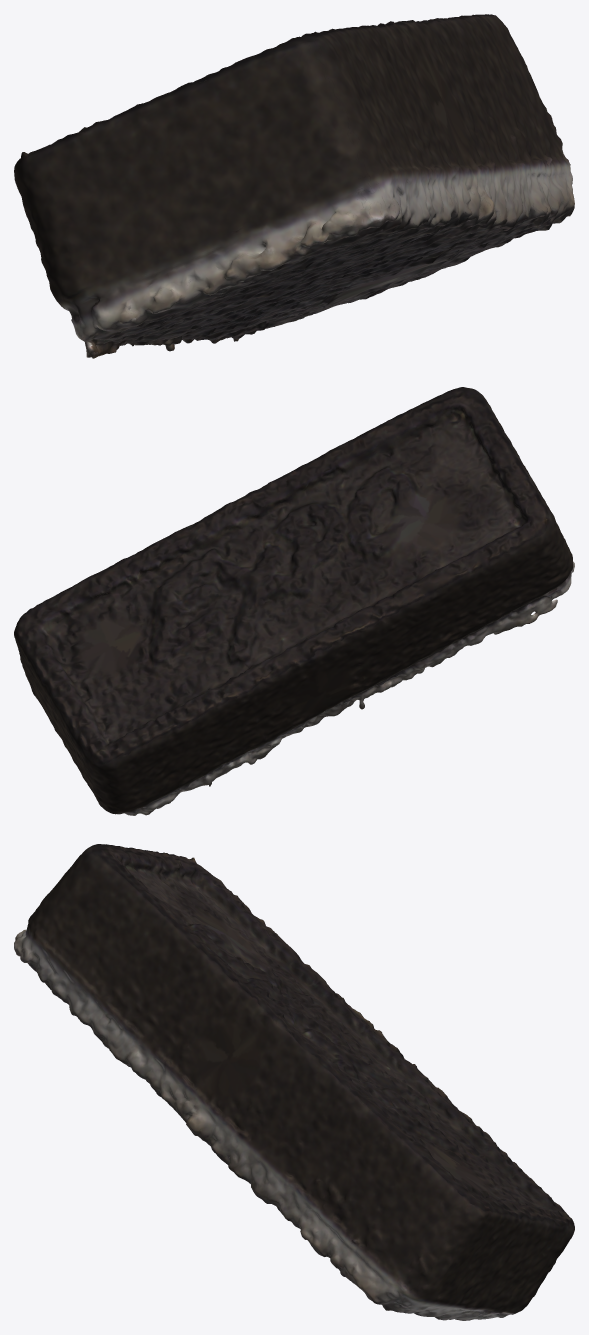
File: Yuta_Eraser_Mesh.obj
3 views of the same model, one above another, from view 1: azimuth 30°, elevation 25°; view 2: azimuth 150°, elevation 25°; view 3: azimuth 270°, elevation 25° (orthographic). The views are drawn at different scales.
Parts seen in each view (by area): view 1: Yuta_Eraser_Mesh; view 2: Yuta_Eraser_Mesh; view 3: Yuta_Eraser_Mesh.
Part boxes in pixels (x1,y1,x2,y2): Yuta_Eraser_Mesh: [14, 14, 574, 358]; Yuta_Eraser_Mesh: [14, 387, 574, 815]; Yuta_Eraser_Mesh: [14, 844, 574, 1320].
Bounding box in the file's own units: 116 × 87.62 × 118.
1 material, 1 textured.
